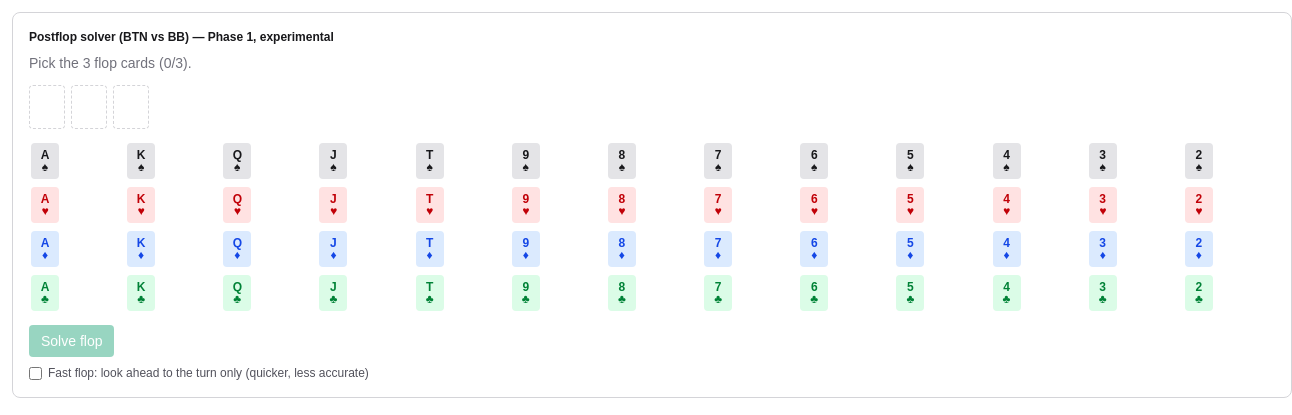
Test case: PostflopPanel › a flop solve looks ahead fully by default, stops at the turn when ticked, and only the flop offers it
Click the checkbox labelled "Fast flop" at (36, 373), box [29,366,42,380]
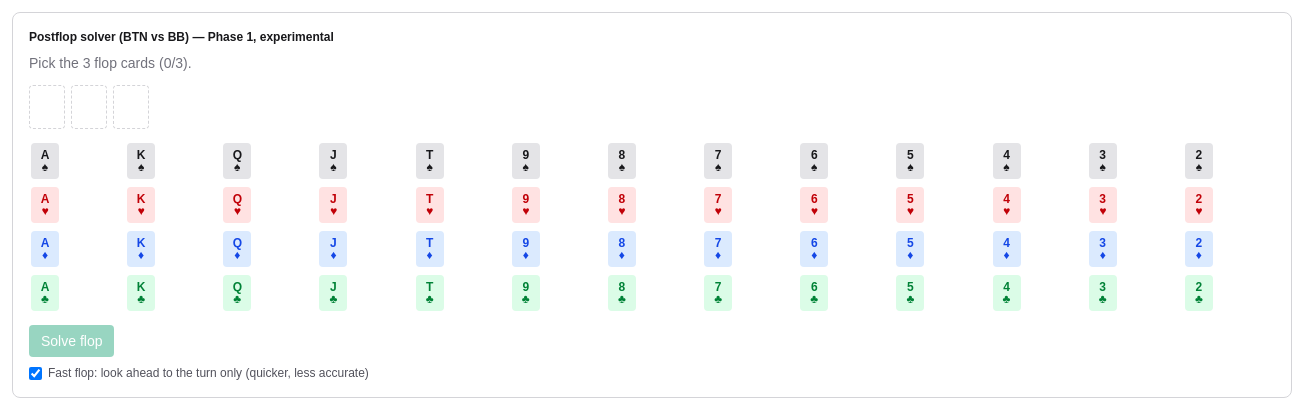
Click the button named "As" at (75, 161), box [29,141,121,181]
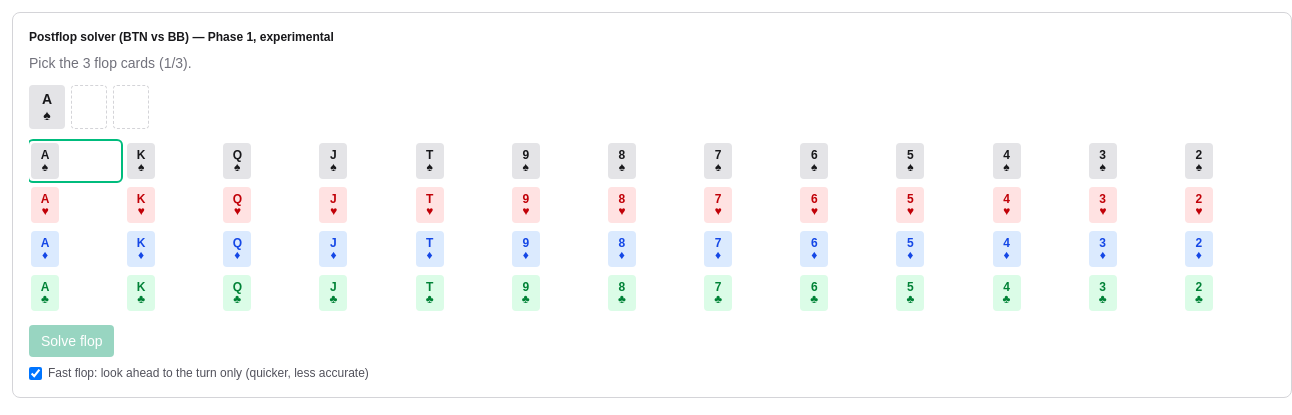
Click the button named "Kd" at (171, 249), box [125,229,217,269]
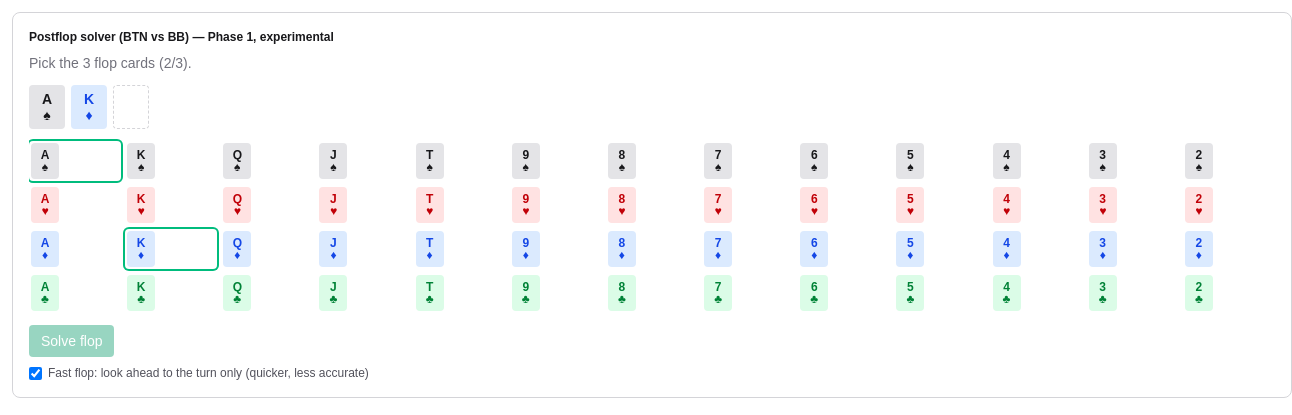
Click the button named "Qh" at (267, 205), box [221,185,314,225]
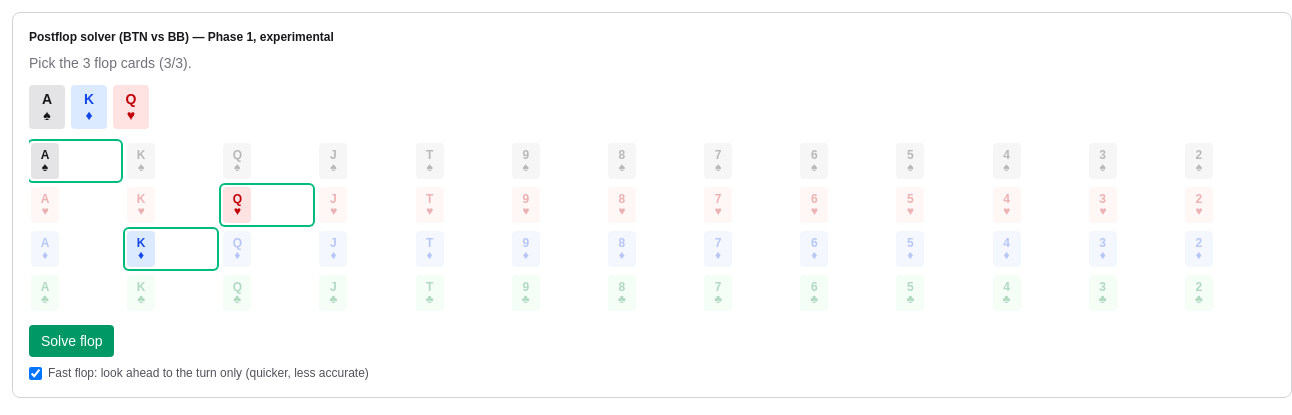
Click the button "Solve flop" at (72, 341), box [29,325,114,357]
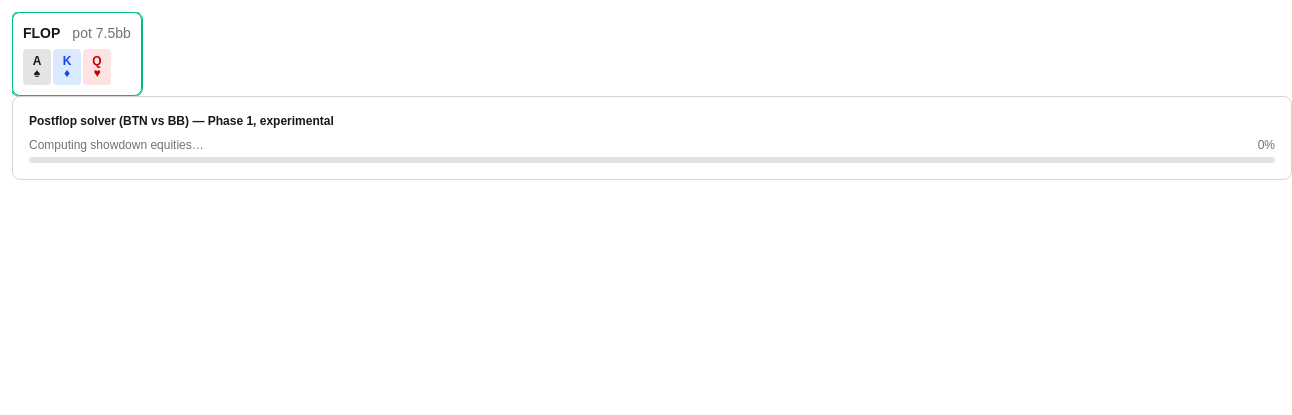
Expected: the label "Fast flop" is gone
